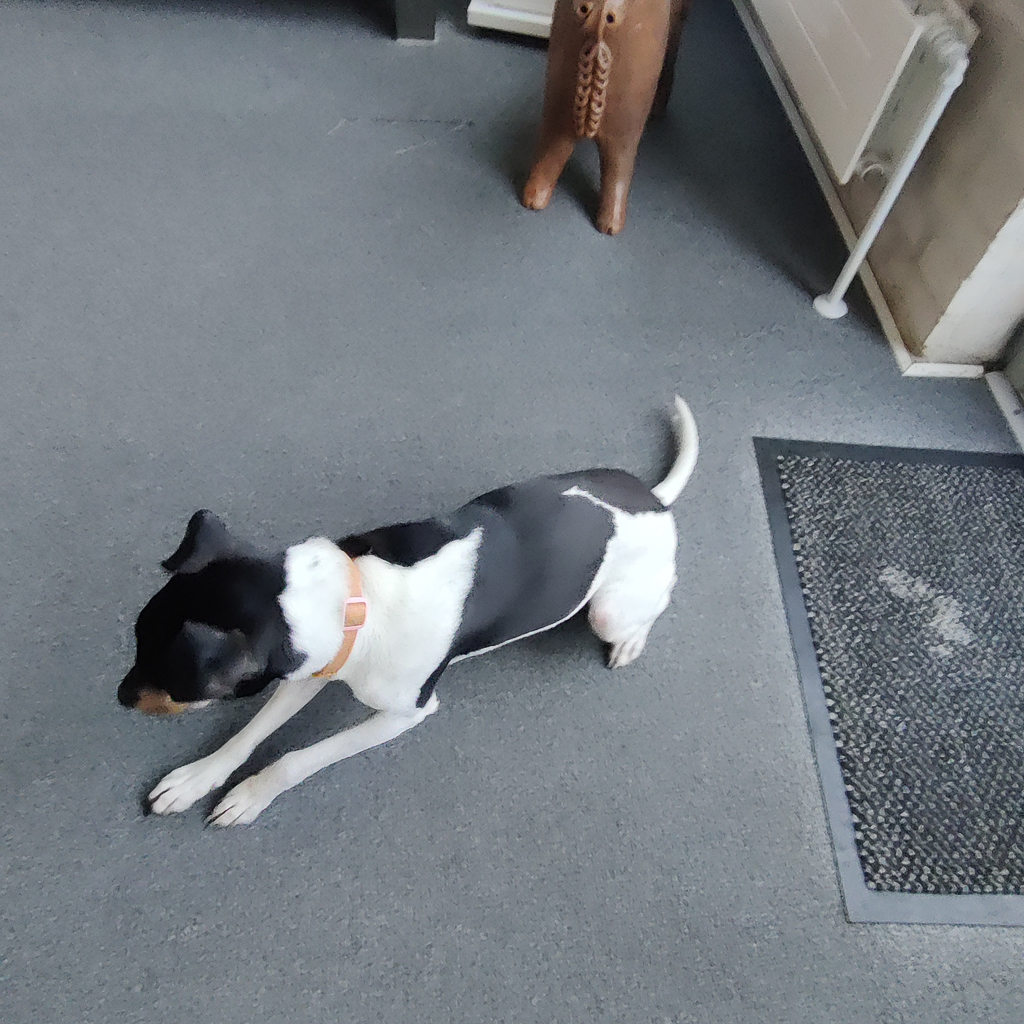Cattle: (490, 0, 699, 250)
Dog: (83, 368, 768, 846)
